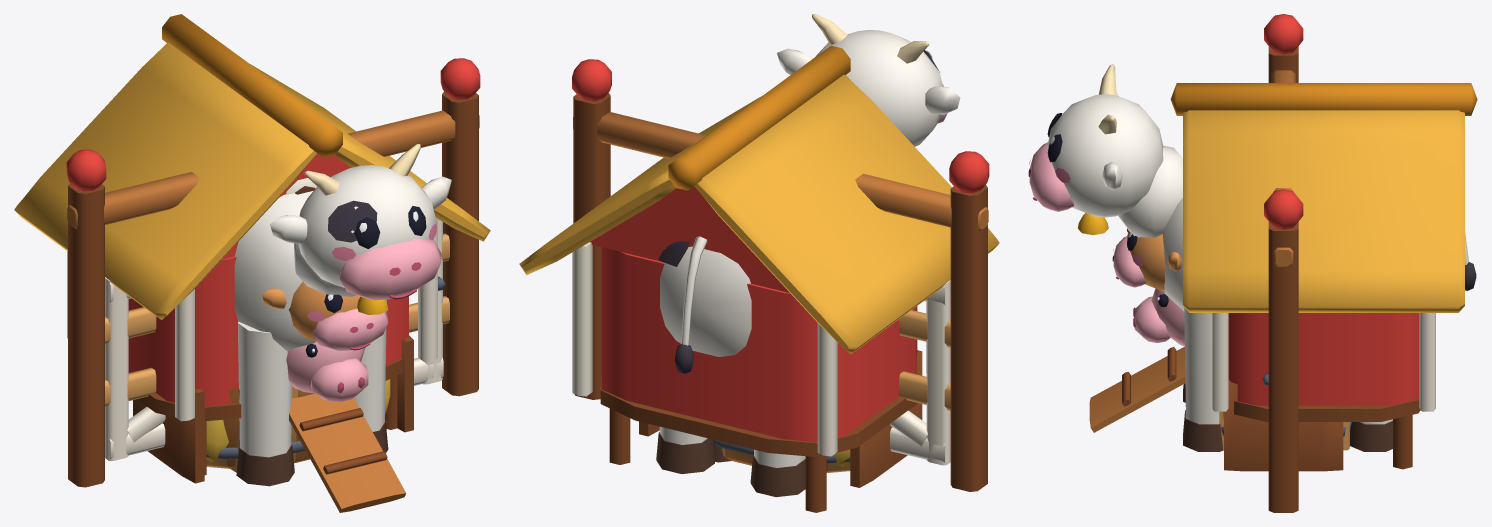
The model's file is farm.glb.
3 renders of one model, left to right at view 1: azimuth 30°, elevation 25°; view 2: azimuth 150°, elevation 25°; view 3: azimuth 270°, elevation 25°, orthographic. The views are drawn at different scales.
Visible parts, largest first — view 1: coop, pen_gate_frame, cow_head, cow_leg_fl, cow_body, pen_gate_door, calf_head, feed_trough, pig_head, pen_fence, cow_leg_fr, water_trough (+1 smaller); view 2: coop, pen_gate_frame, cow_head, cow_body, pen_gate_door, feed_trough, cow_leg_bl, cow_leg_br, pen_fence, cow_tail, water_trough; view 3: coop, cow_head, pen_gate_frame, feed_trough, cow_leg_fr, calf_head, pig_head, cow_body, cow_leg_br.
Boxes of the visible parts, x1=… form: coop: x1=14, y1=14, x2=490, y2=512; pen_gate_frame: x1=66, y1=58, x2=480, y2=487; cow_head: x1=270, y1=144, x2=451, y2=314; cow_leg_fl: x1=236, y1=321, x2=294, y2=486; cow_body: x1=234, y1=188, x2=315, y2=350; pen_gate_door: x1=105, y1=219, x2=445, y2=460; calf_head: x1=262, y1=281, x2=388, y2=350; feed_trough: x1=133, y1=335, x2=413, y2=483; pig_head: x1=286, y1=341, x2=368, y2=401; pen_fence: x1=105, y1=233, x2=449, y2=406; cow_leg_fr: x1=354, y1=299, x2=388, y2=452; water_trough: x1=206, y1=386, x2=314, y2=468; coop: x1=519, y1=45, x2=999, y2=512; pen_gate_frame: x1=572, y1=59, x2=989, y2=491; cow_head: x1=777, y1=14, x2=960, y2=146; cow_body: x1=658, y1=241, x2=751, y2=356; pen_gate_door: x1=890, y1=280, x2=950, y2=465; feed_trough: x1=639, y1=350, x2=922, y2=487; cow_leg_bl: x1=750, y1=449, x2=805, y2=497; cow_leg_br: x1=656, y1=426, x2=714, y2=473; pen_fence: x1=899, y1=310, x2=950, y2=410; cow_tail: x1=675, y1=236, x2=707, y2=374; water_trough: x1=713, y1=439, x2=850, y2=472; coop: x1=1089, y1=83, x2=1477, y2=469; cow_head: x1=1028, y1=64, x2=1182, y2=237; pen_gate_frame: x1=1264, y1=14, x2=1303, y2=512; feed_trough: x1=1224, y1=379, x2=1343, y2=471; cow_leg_fr: x1=1183, y1=307, x2=1223, y2=451; calf_head: x1=1112, y1=228, x2=1182, y2=290; pig_head: x1=1133, y1=288, x2=1184, y2=346; cow_body: x1=1163, y1=198, x2=1184, y2=311; cow_leg_br: x1=1350, y1=419, x2=1392, y2=451.
Size of the model in its own units: 2.19 by 1.78 by 2.17.
